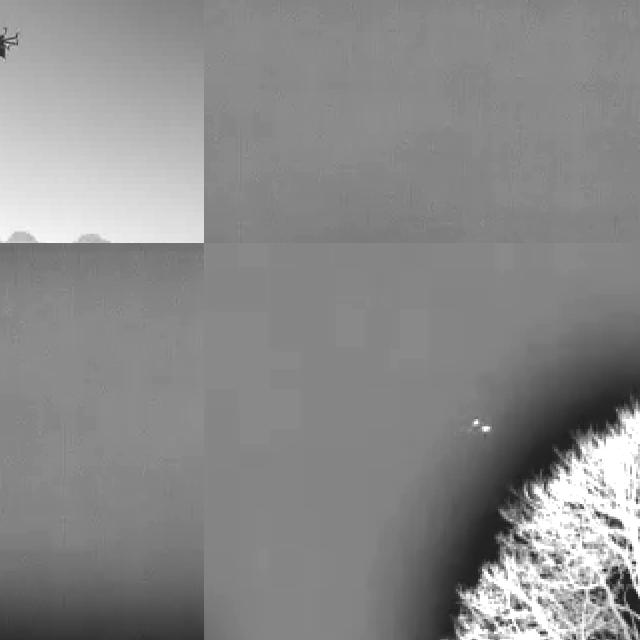0: (476, 419, 498, 444), (460, 409, 484, 431)
drone: (0, 16, 25, 70)
